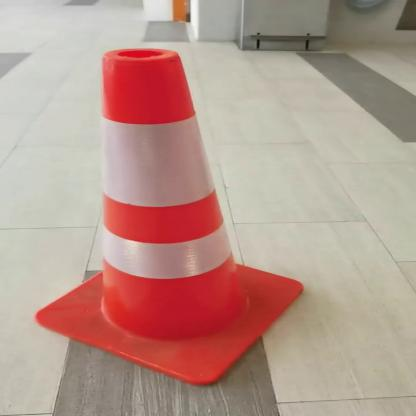cone: (25, 50, 328, 388)
